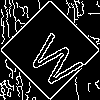W: (25, 25, 92, 92)
